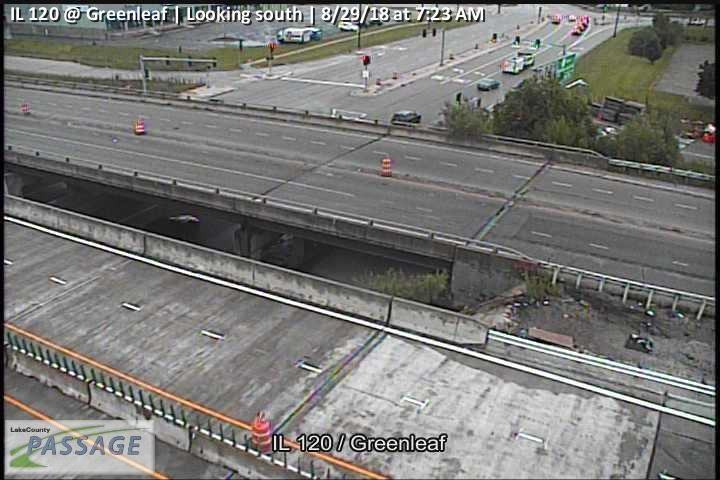SUV: (390, 109, 421, 124), (299, 23, 322, 40), (338, 20, 359, 33)
Sedan: (476, 77, 502, 91)
Truck: (497, 51, 536, 74), (275, 26, 312, 44)
